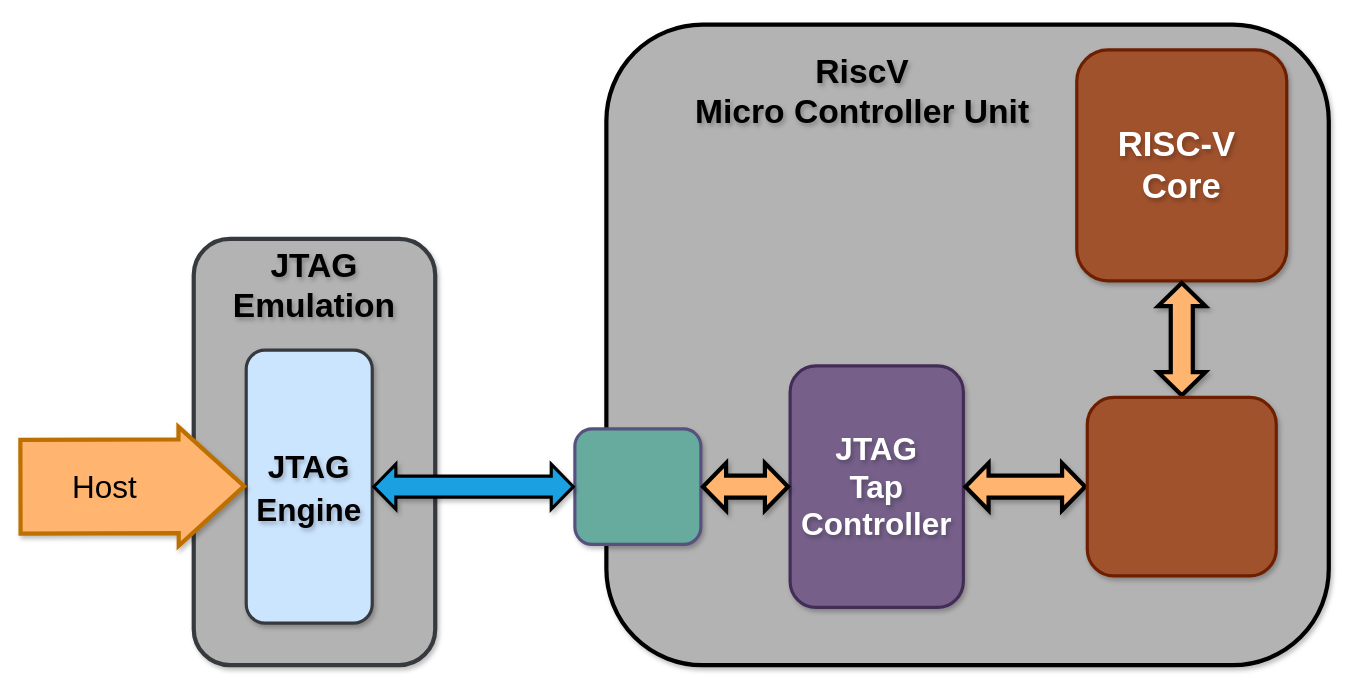
Some shapes in this 1356 by 692 pixel diagram are drawn without their labels. Each missing label, with the centre of its shape:
"External Debugger" belongs at point 1182,487.
"JTAG Port" belongs at point 638,488.
